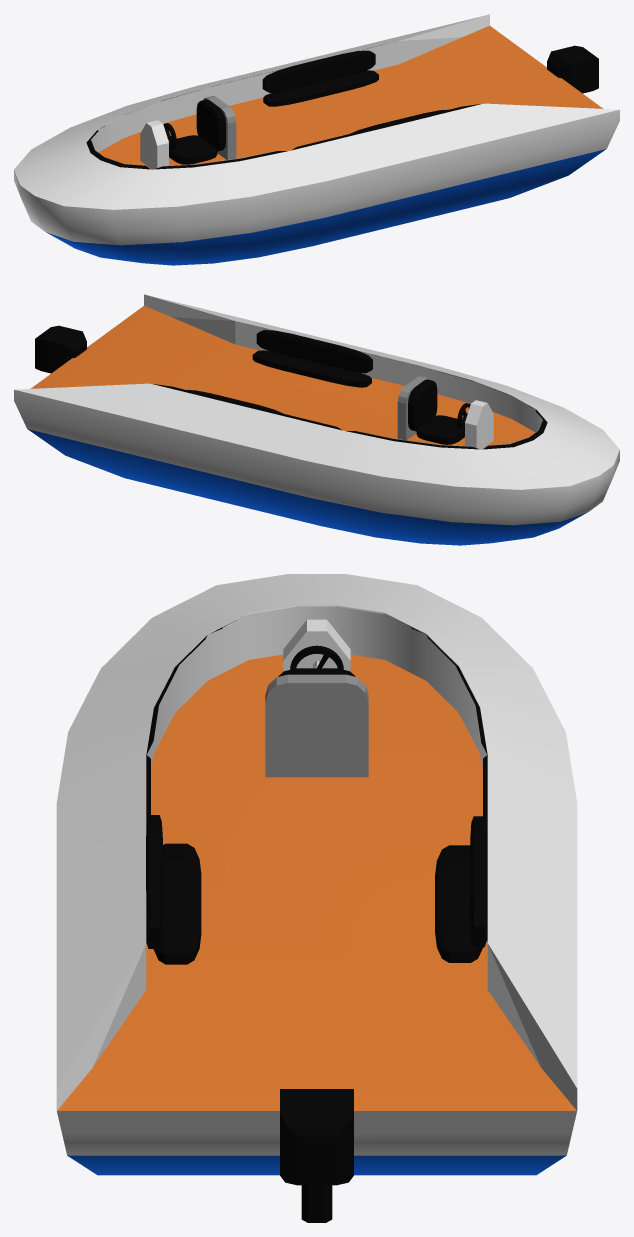
Rendered from vissers_boat.fbx.
3 views of the same model, one above another, from view 1: azimuth 30°, elevation 25°; view 2: azimuth 150°, elevation 25°; view 3: azimuth 270°, elevation 25° (orthographic). The views are drawn at different scales.
Visible parts, largest first — view 1: Cube, Cube.008, Cube.009, Cube.007, Cube.004, Cube.002, Cube.001, Cube.003, Cube.006; view 2: Cube, Cube.006, Cube.005, Cube.009, Cube.004, Cube.002, Cube.001, Cube.003, Cube.008; view 3: Cube, Cube.003, Cube.009, Cube.005, Cube.007, Cube.004, Cube.006, Cube.008.
Part boxes in pixels (x1,y1,x2,y2): Cube: (14,14,619,265); Cube.008: (262,50,375,92); Cube.009: (547,45,598,93); Cube.007: (263,70,378,106); Cube.004: (140,120,168,169); Cube.002: (196,99,225,151); Cube.001: (168,135,217,164); Cube.003: (203,96,236,159); Cube.006: (351,109,448,133); Cube: (14,294,619,545); Cube.006: (256,330,372,373); Cube.005: (252,350,371,387); Cube.009: (35,325,86,373); Cube.004: (465,400,493,449); Cube.002: (408,379,437,431); Cube.001: (416,415,464,444); Cube.003: (397,376,430,440); Cube.008: (187,390,282,413); Cube: (56,574,577,1175); Cube.003: (265,674,368,777); Cube.009: (280,1089,353,1222); Cube.005: (153,843,201,964); Cube.007: (435,845,482,962); Cube.004: (283,619,350,671); Cube.006: (146,815,162,948); Cube.008: (470,816,486,947).
Size of the model in its own units: 396 by 94.32 by 158.
